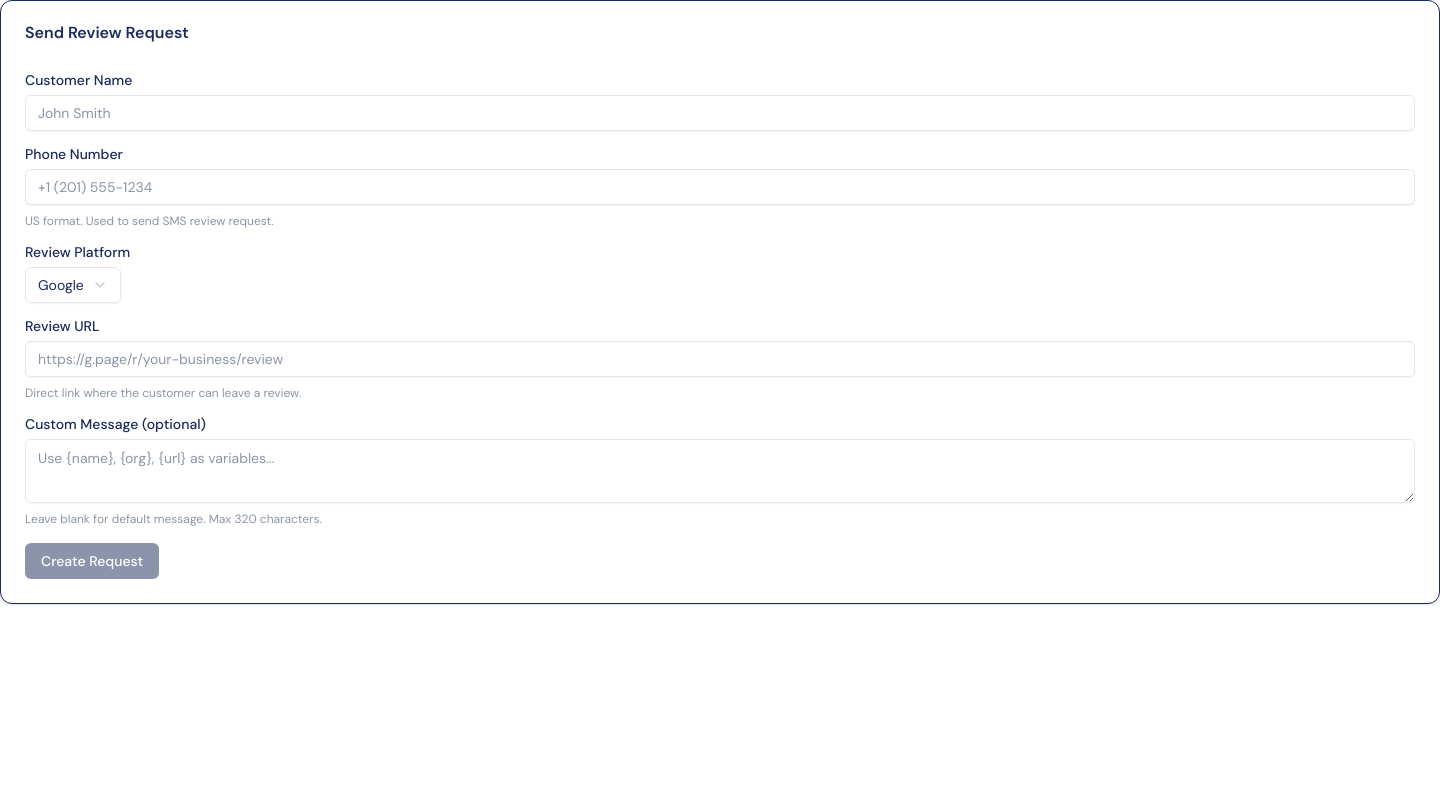
Scenario: ReviewRequestForm › shows error on API failure
Type "John" into the field labelled "Customer Name" at {"x": 720, "y": 113}, box [25, 95, 1415, 131]
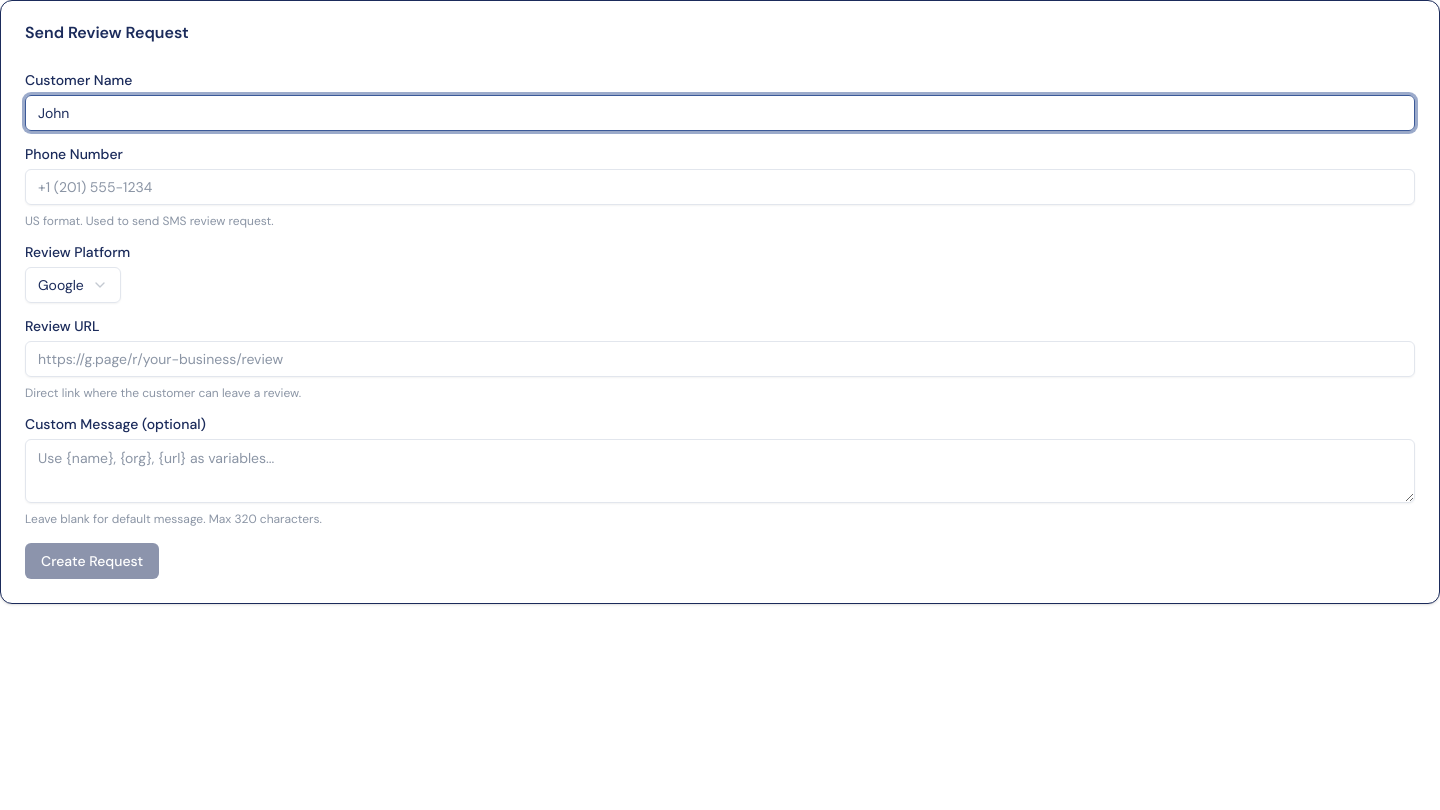
Type "https://g.page/review" into the field labelled "Review URL" at {"x": 720, "y": 359}, box [25, 341, 1415, 377]
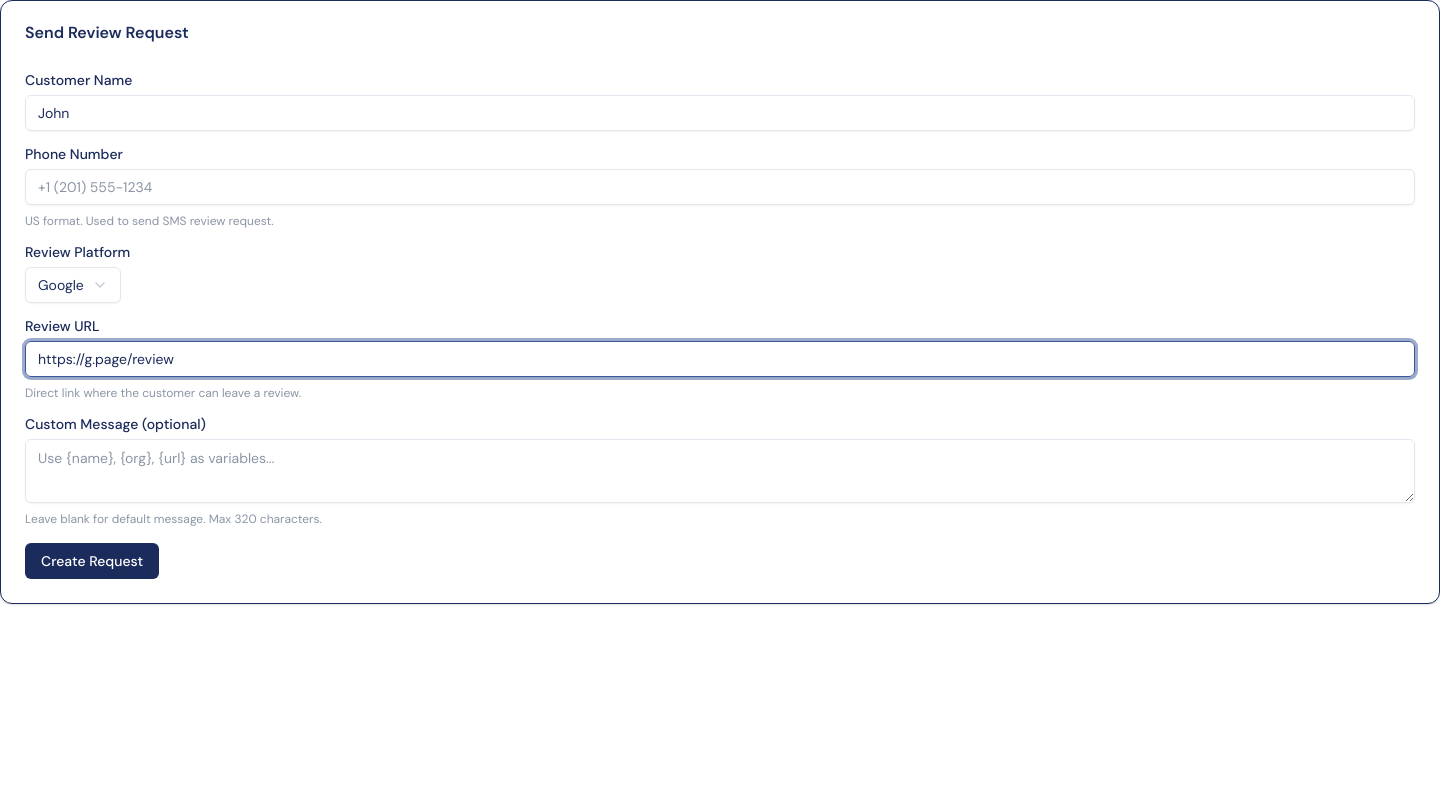
Click the button "Create Request" at {"x": 92, "y": 561}, box [25, 543, 159, 579]
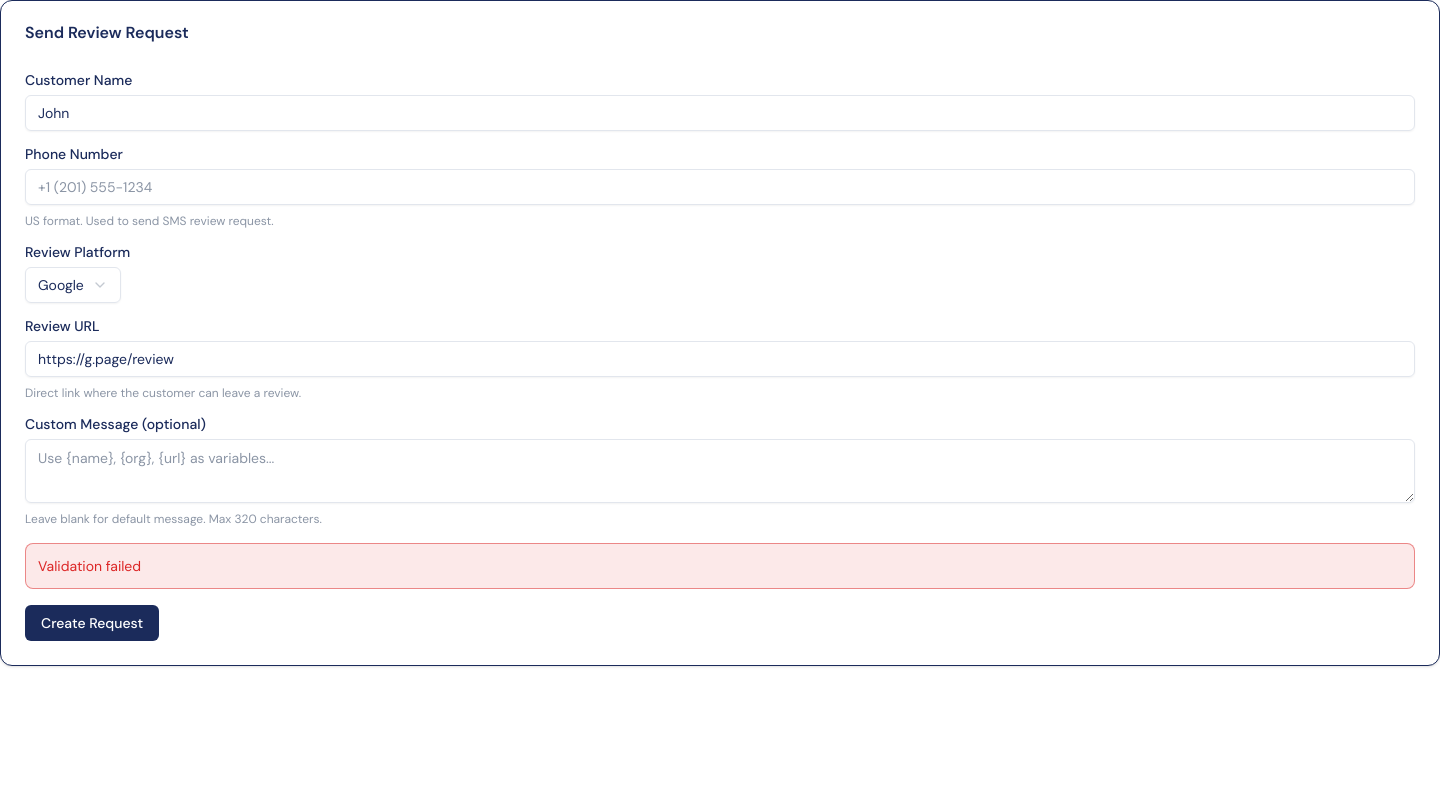
Result: the text "Validation failed" is shown at [25, 543, 1415, 589]
